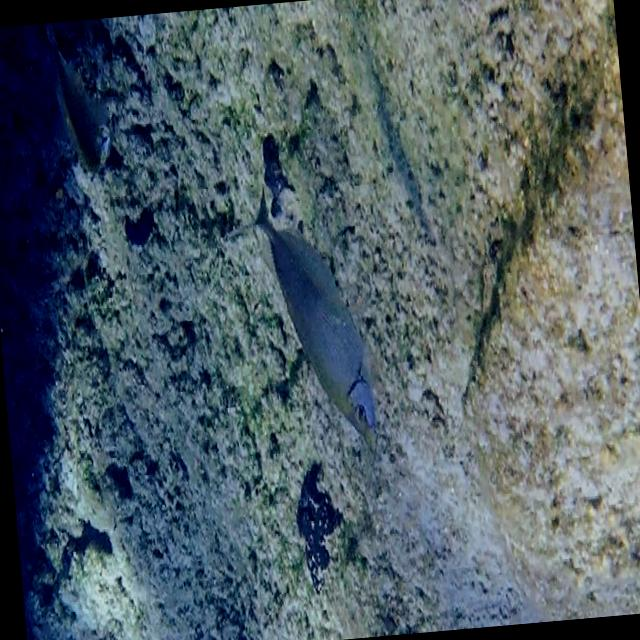Sokar Baligi: (216, 148, 399, 496)
